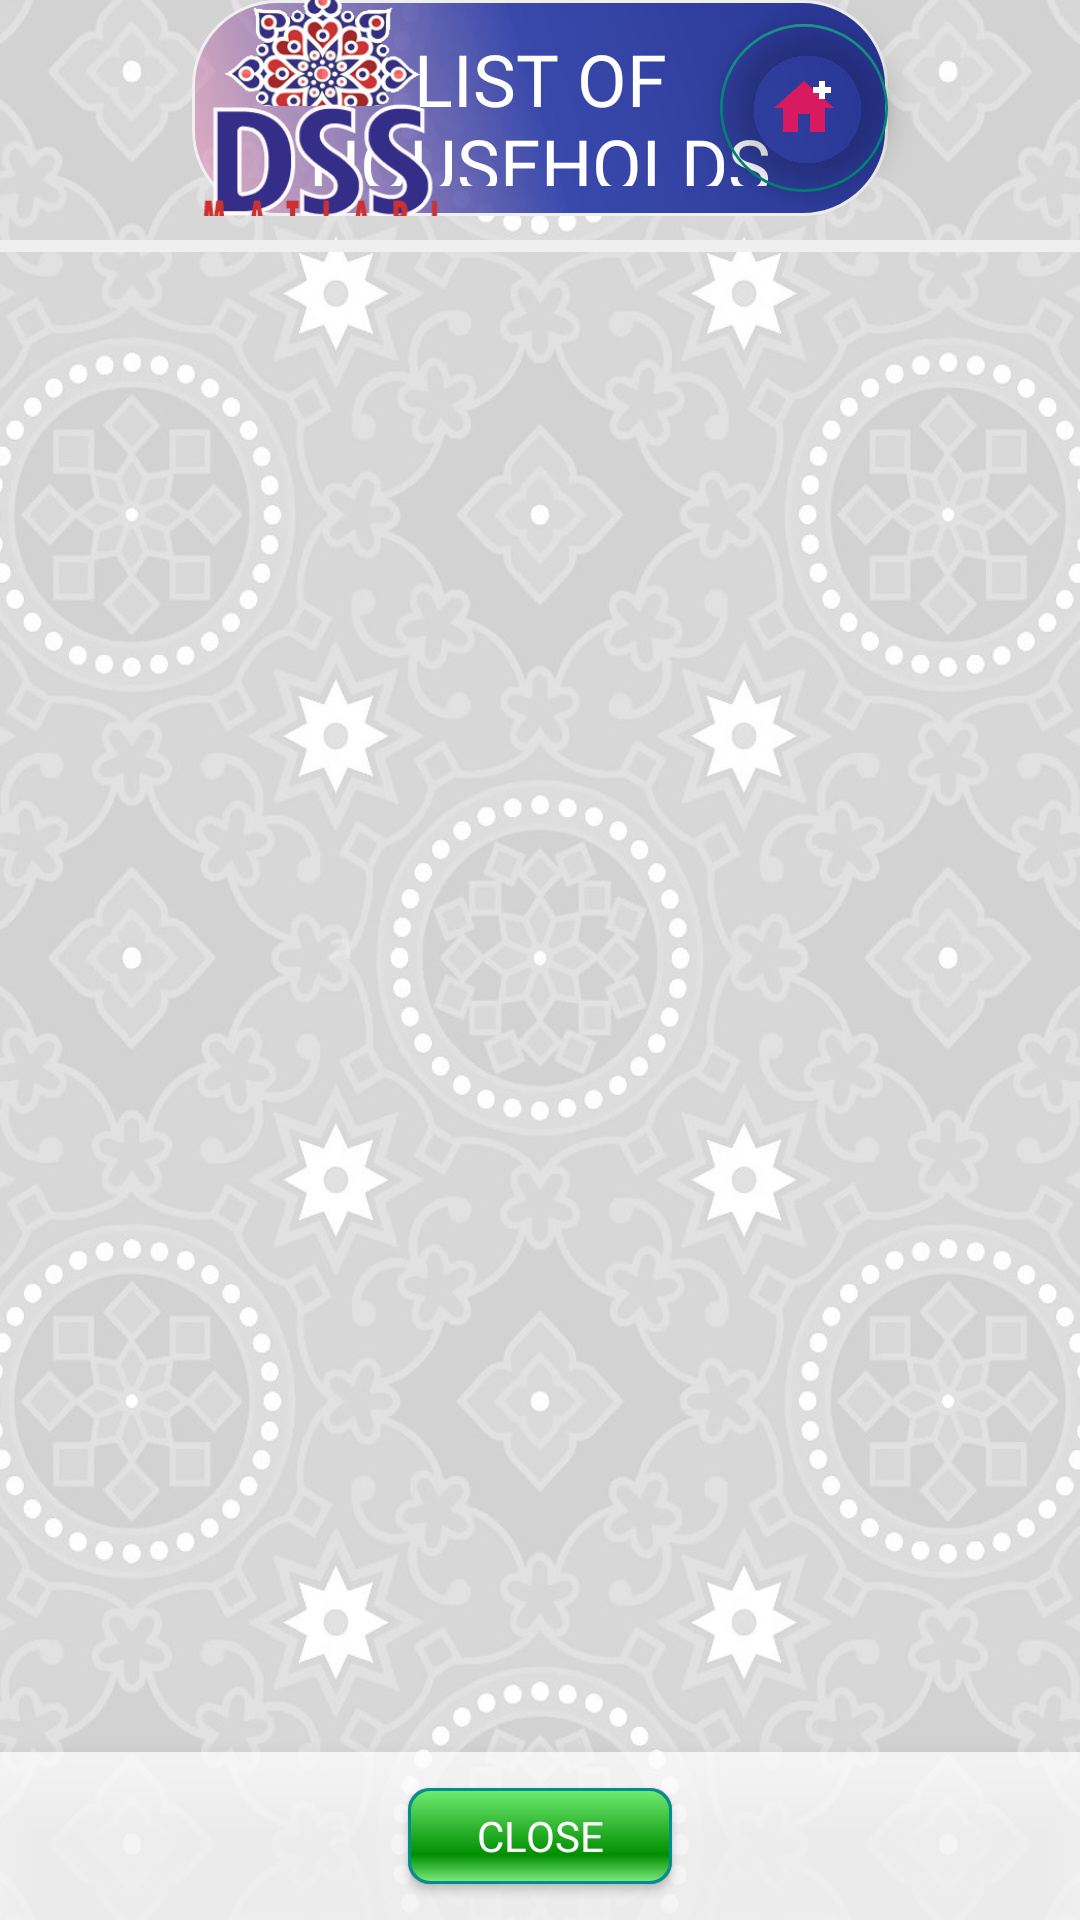

Icons on this 1080x1920 Android screen, each with the point to tap as point (x, y):
home add: point (804, 108)
